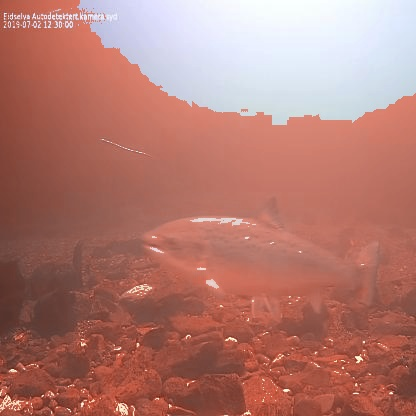salmon: (138, 194, 383, 327)
